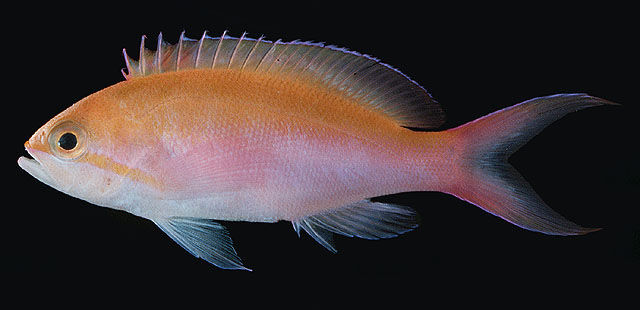fish: (17, 30, 620, 272)
